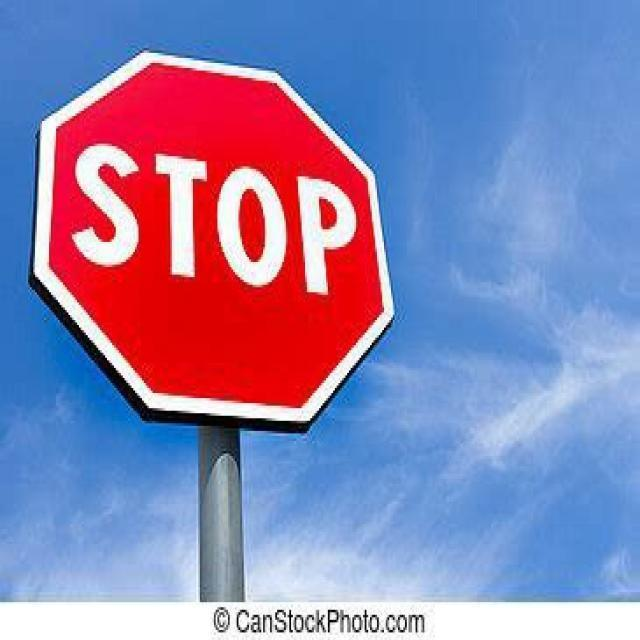stop: (22, 38, 406, 436)
